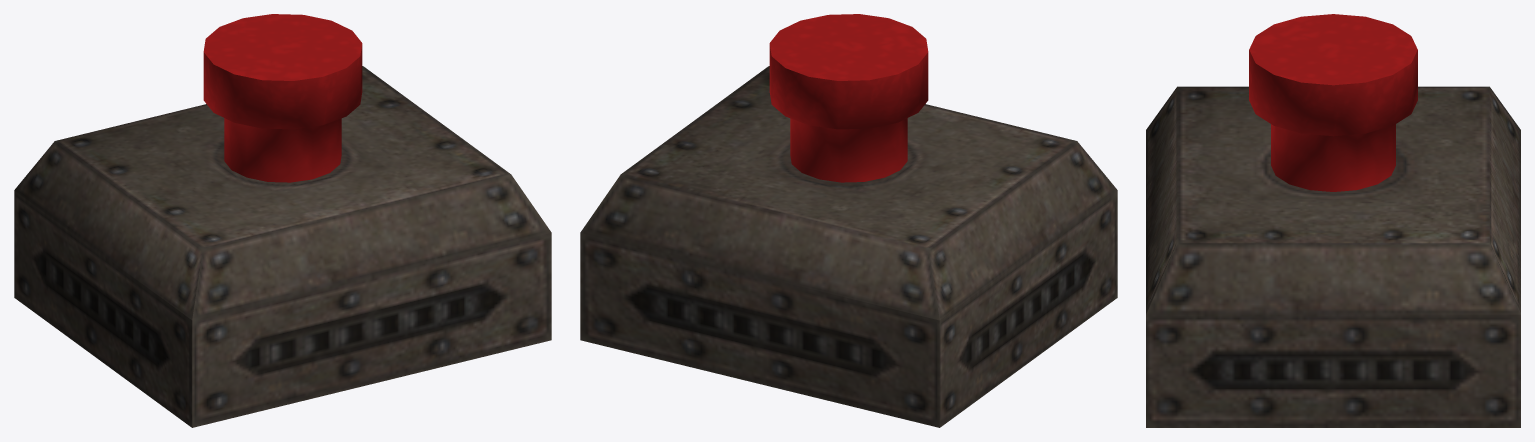
File: button_red.obj
3 views of the same model, side by side, from view 1: azimuth 30°, elevation 25°; view 2: azimuth 150°, elevation 25°; view 3: azimuth 270°, elevation 25° (orthographic). The views are drawn at different scales.
Parts seen in each view (by area): view 1: skin; view 2: skin; view 3: skin.
Part boxes in pixels (box(x1,y1,x2,y2)): skin: box(14, 14, 551, 427); skin: box(580, 14, 1117, 427); skin: box(1146, 14, 1520, 427).
Size of the model in its own units: 7 by 5.05 by 6.
1 material, 1 textured.
